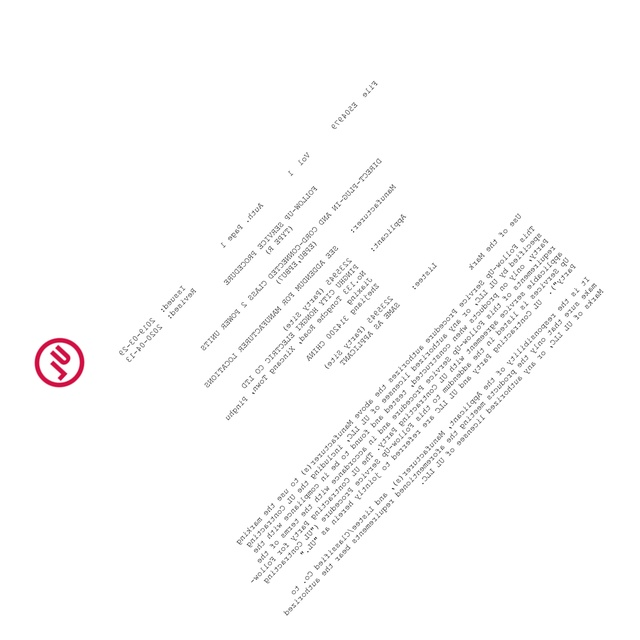ul: (35, 336, 85, 388)
